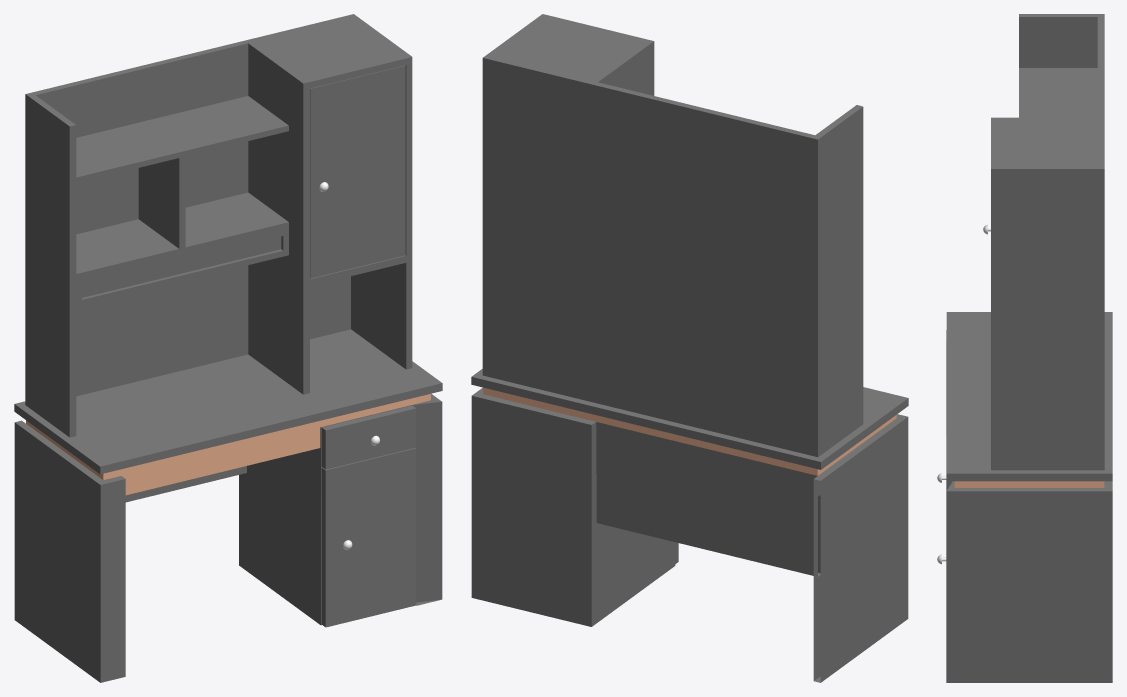
Rendered from Meja_Belajar_lia.glb.
The picture shows the model from 3 angles, left to right: view 1: azimuth 30°, elevation 25°; view 2: azimuth 150°, elevation 25°; view 3: azimuth 270°, elevation 25°; orthographic projection. The views are drawn at different scales.
Visible parts, largest first — view 1: Cube; view 2: Cube; view 3: Cube.
Boxes of the visible parts, x1=… form: Cube: x1=14, y1=14, x2=442, y2=682; Cube: x1=471, y1=14, x2=908, y2=682; Cube: x1=946, y1=14, x2=1112, y2=682.
Bounding box in the file's own units: 2.17 × 3.19 × 0.9923.
